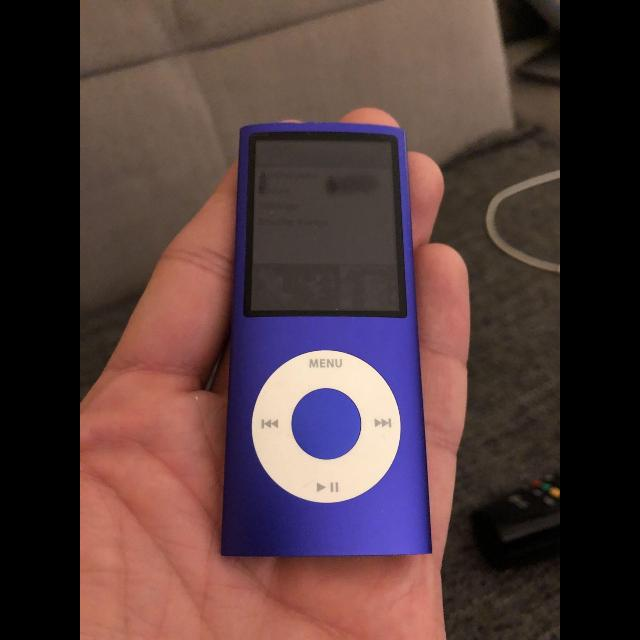Music-Player: (215, 111, 441, 571)
